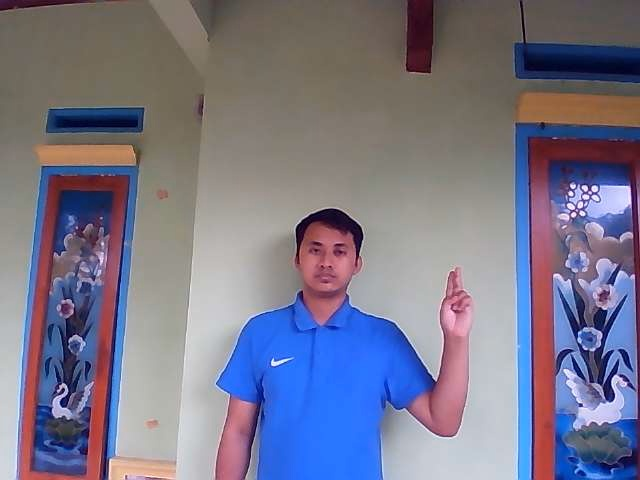U: (438, 265, 474, 336)
